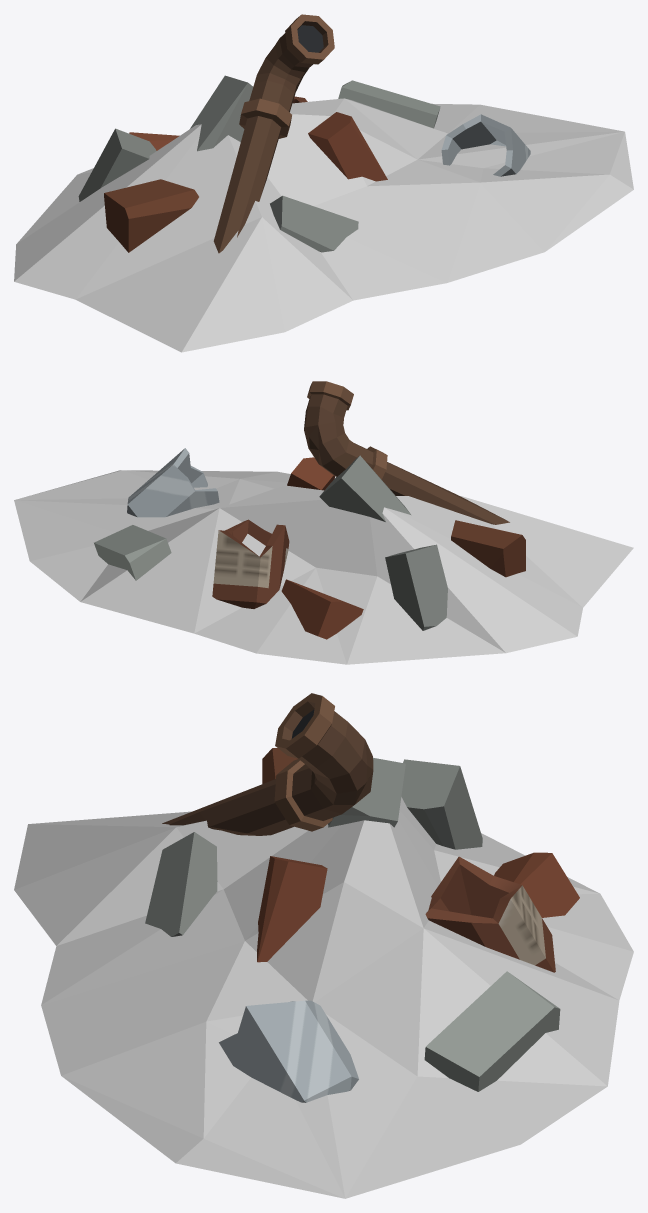
The model's file is SM_Prop_Debris_Pile_04.fbx.
3 renders of one model, top to bottom at view 1: azimuth 30°, elevation 25°; view 2: azimuth 150°, elevation 25°; view 3: azimuth 270°, elevation 25°, orthographic. The views are drawn at different scales.
Visible parts, largest first — view 1: SM_Prop_Debris_Pile_04; view 2: SM_Prop_Debris_Pile_04; view 3: SM_Prop_Debris_Pile_04.
Part boxes in pixels (box(x1,y1,x2,y2)): SM_Prop_Debris_Pile_04: box(14, 14, 633, 352); SM_Prop_Debris_Pile_04: box(14, 381, 633, 664); SM_Prop_Debris_Pile_04: box(14, 693, 633, 1198).
Bounding box in the file's own units: 162 × 58.8 × 104.
